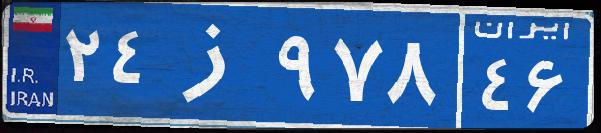2: (57, 26, 110, 107)
4: (475, 38, 525, 113), (110, 28, 158, 105)
6: (525, 38, 570, 115)
7: (330, 28, 385, 110)
8: (385, 28, 445, 110)
9: (273, 28, 330, 110)
ز: (158, 15, 273, 115)
